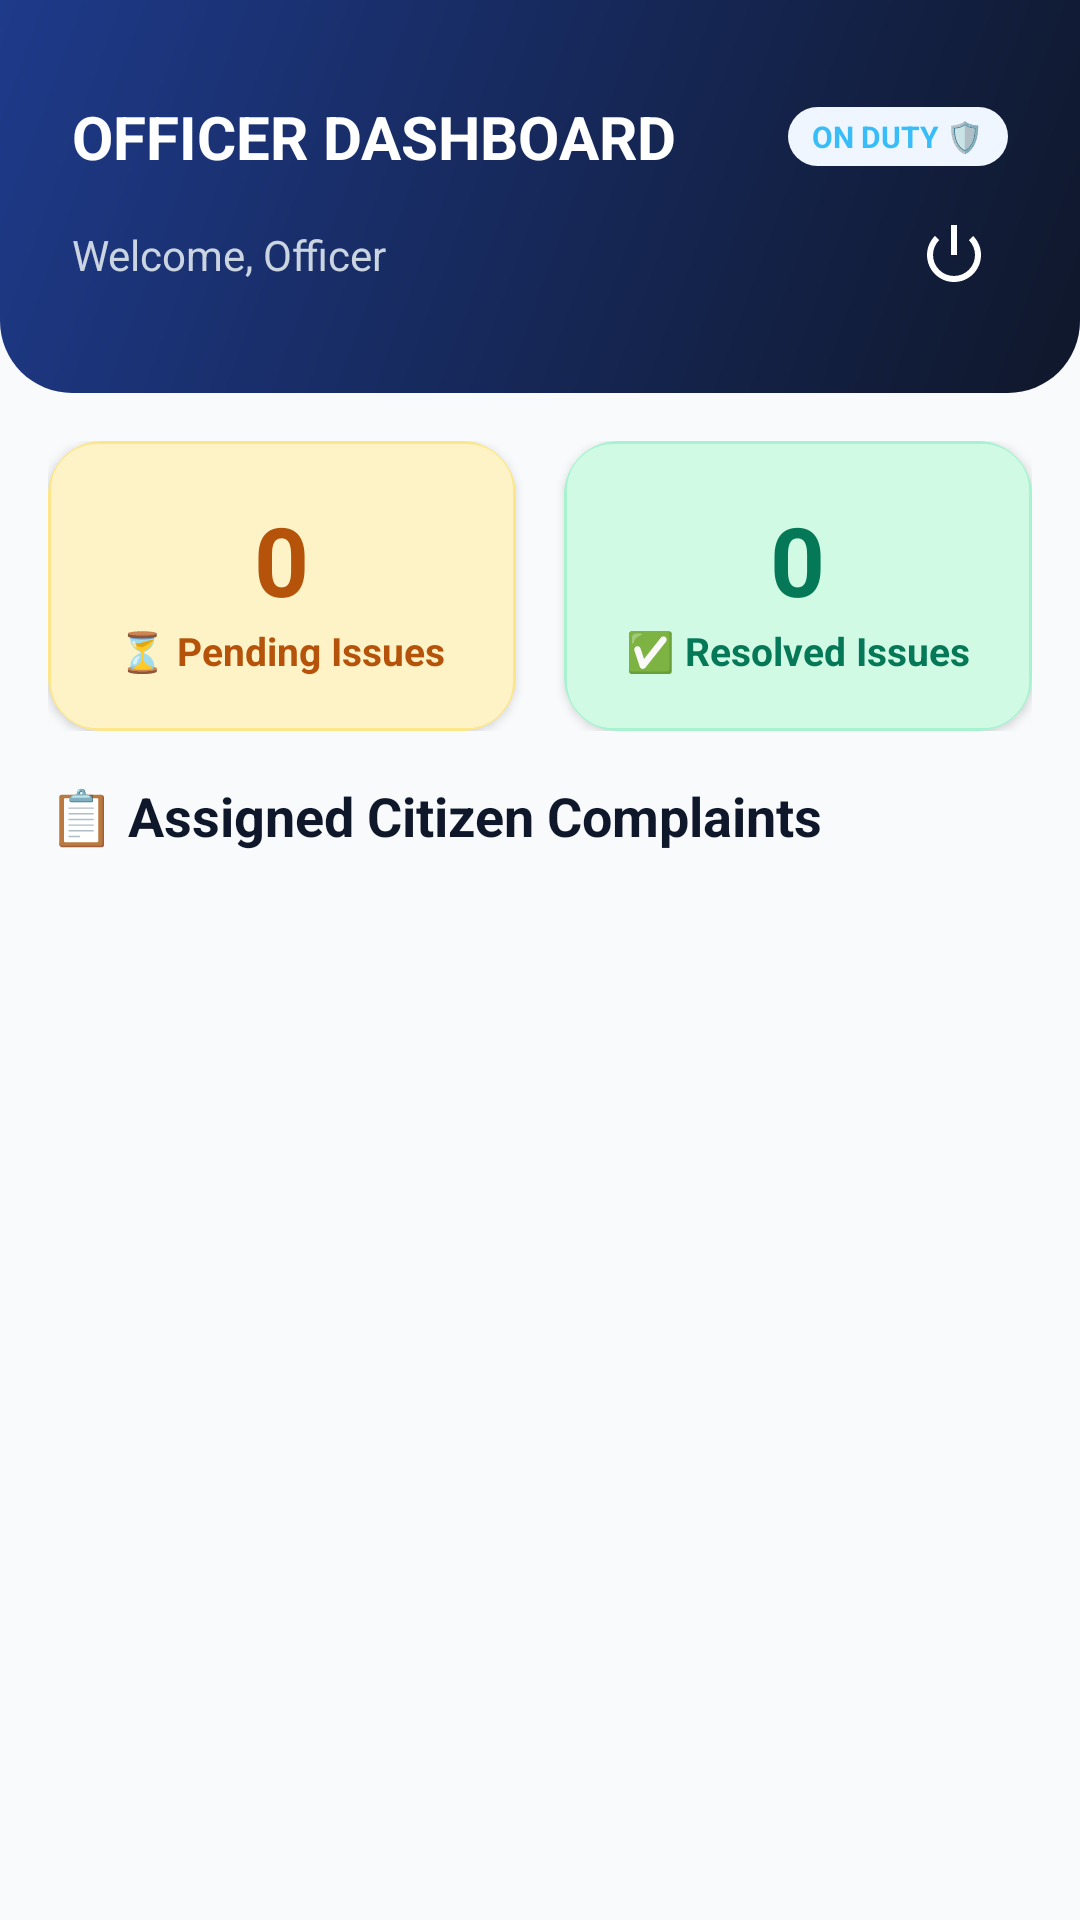

Named icons in this screenshot (1080 × 1920) and their centers, (x=x, y=y):
lock power off: (x=954, y=253)
